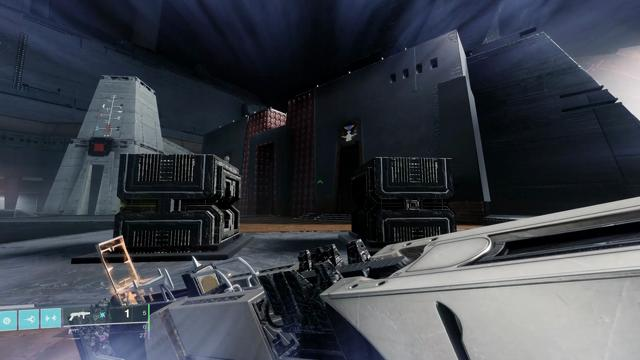brain: (223, 155, 231, 163)
drink: (340, 123, 357, 142)
stop: (90, 139, 109, 155)
